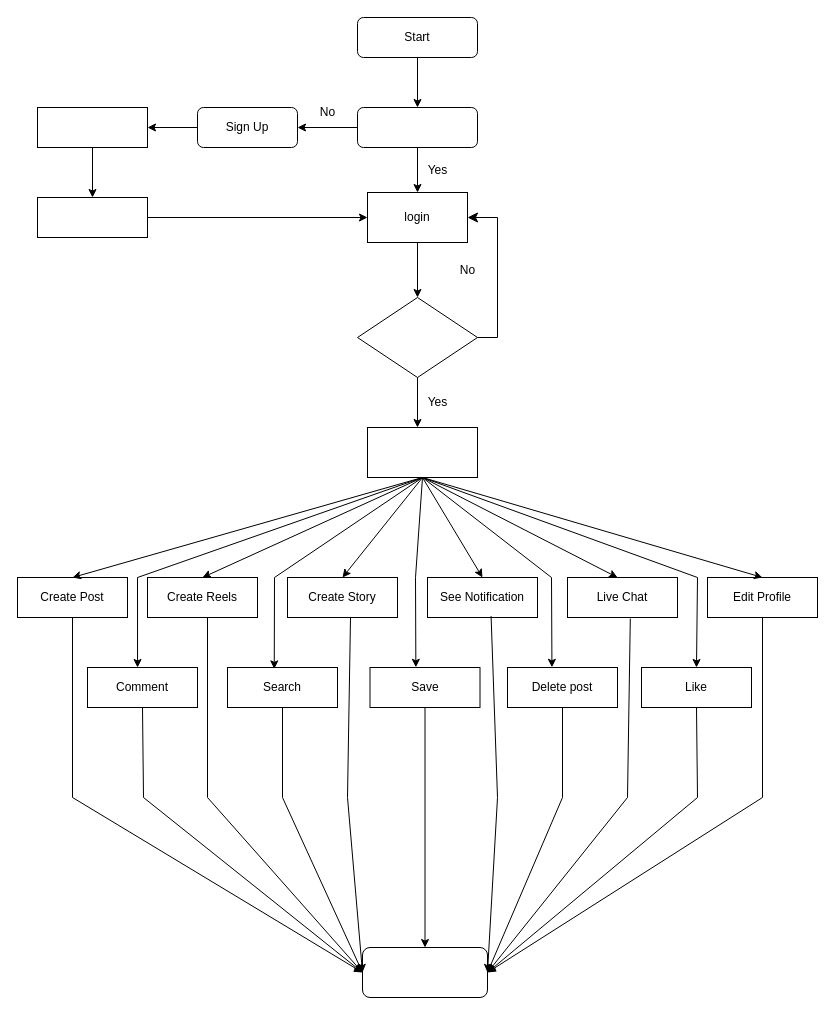
This 835x1015 diagram has some shape labels left out. The shapes that lost their labels are listed below. From the top down, each one's centre as x and y in pixels, then its label:
At (x=92, y=127): "Fill Infrormation".
At (x=417, y=127): "Have an account?".
At (x=92, y=217): "Submit".
At (x=417, y=337): "Authorised?".
At (x=422, y=452): "Login into System".
At (x=425, y=972): "End".
